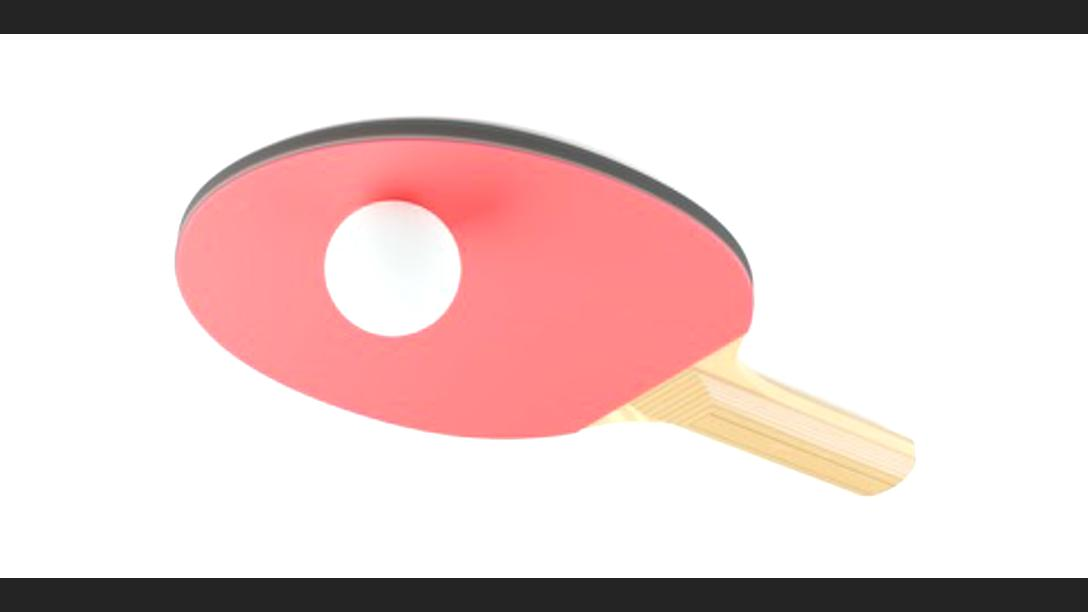Table-Tennis-Ball: (326, 202, 460, 336)
